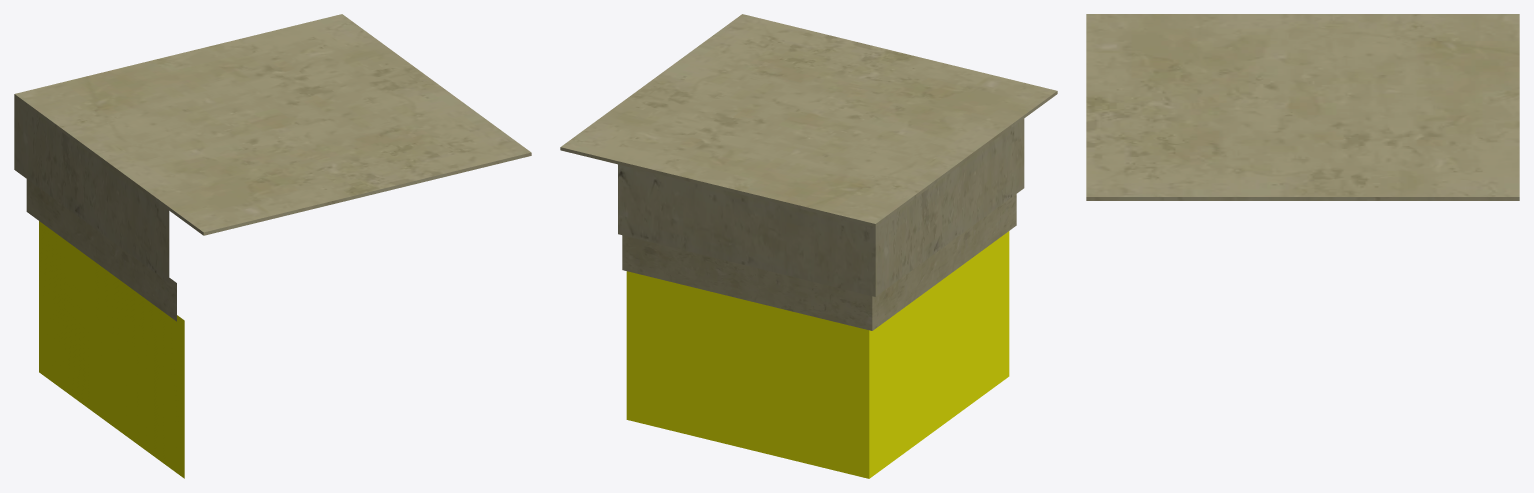
Rendered from brick-cornercolumn-cap.glb.
The picture shows the model from 3 angles, left to right: view 1: azimuth 30°, elevation 25°; view 2: azimuth 150°, elevation 25°; view 3: azimuth 270°, elevation 25°; orthographic projection. The views are drawn at different scales.
Parts seen in each view (by area): view 1: Brick_CornerColumn_Cap; view 2: Brick_CornerColumn_Cap; view 3: Brick_CornerColumn_Cap.
Boxes of the visible parts, x1=… form: Brick_CornerColumn_Cap: x1=14, y1=14, x2=531, y2=478; Brick_CornerColumn_Cap: x1=560, y1=14, x2=1057, y2=478; Brick_CornerColumn_Cap: x1=1086, y1=14, x2=1519, y2=200.
Size of the model in its own units: 1.26 by 1.01 by 1.26.
2 materials, 1 textured.
